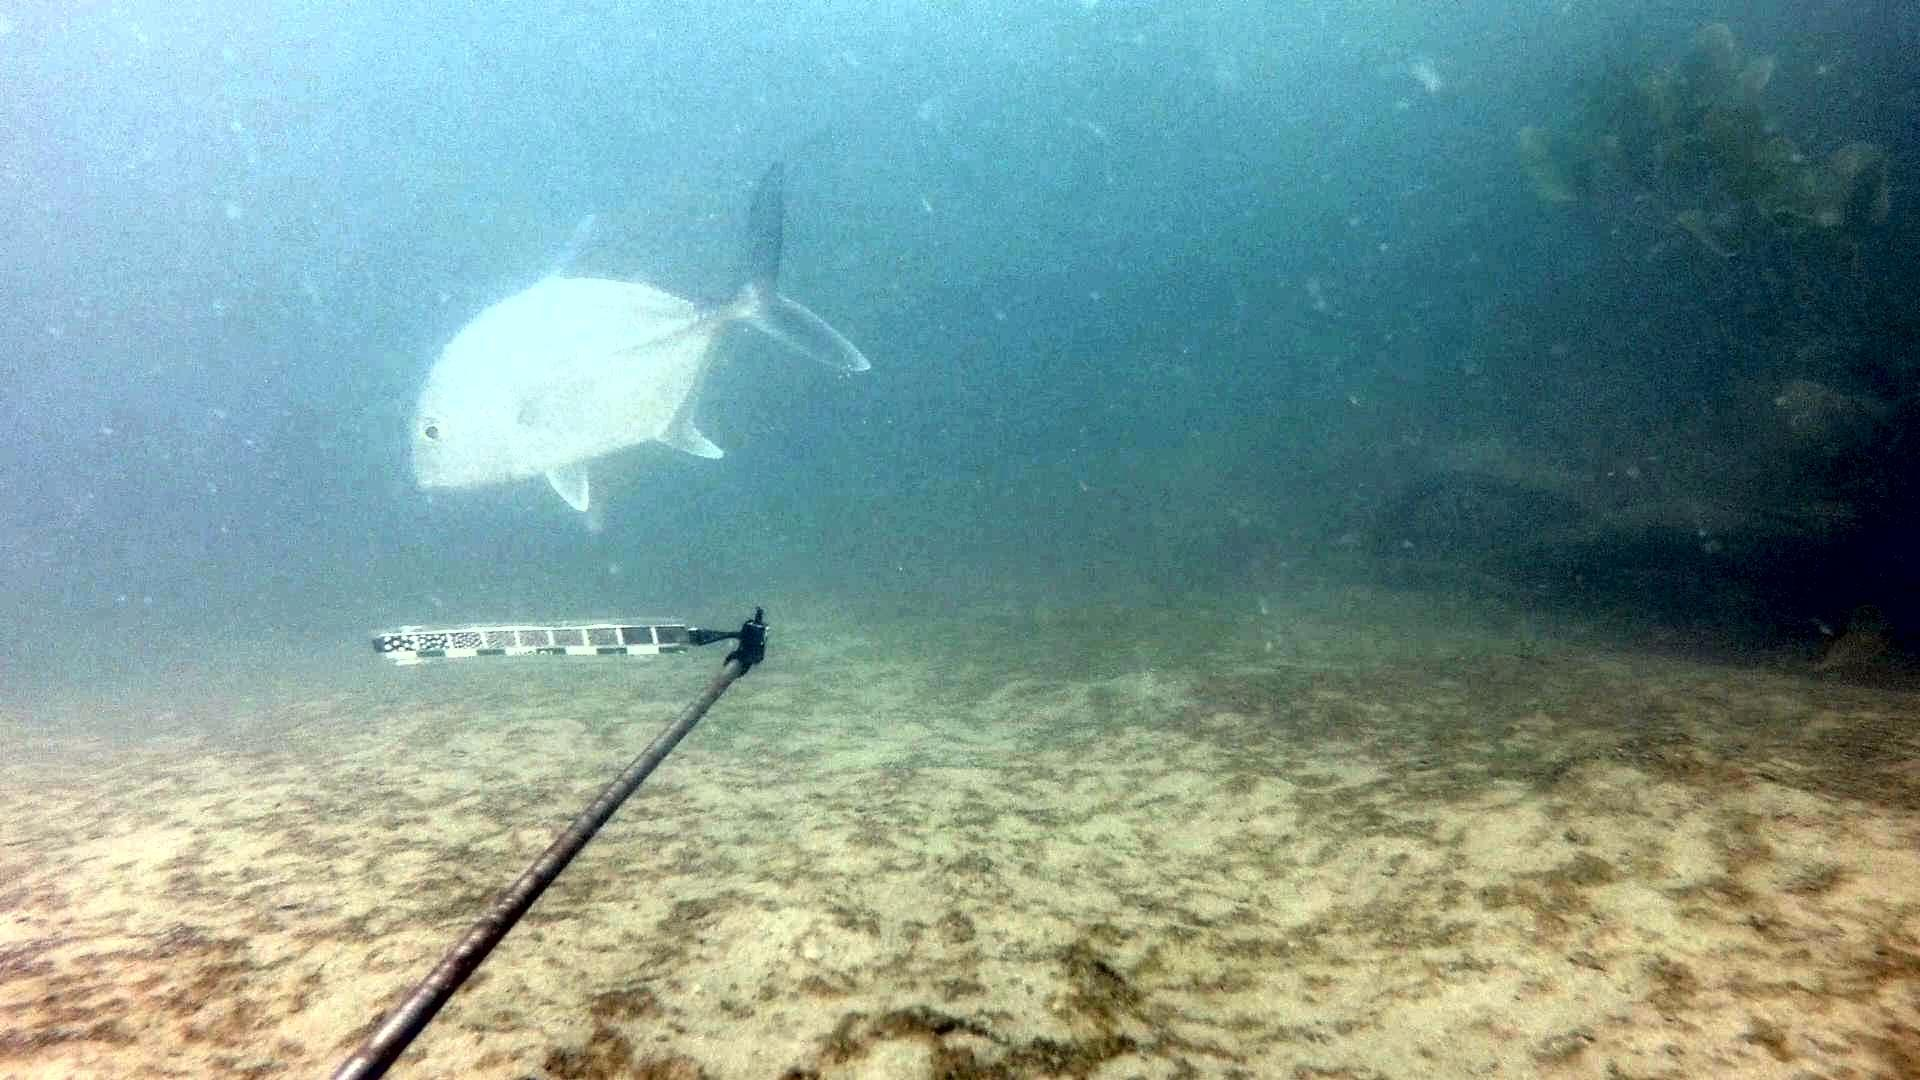caranx: (396, 136, 881, 535)
